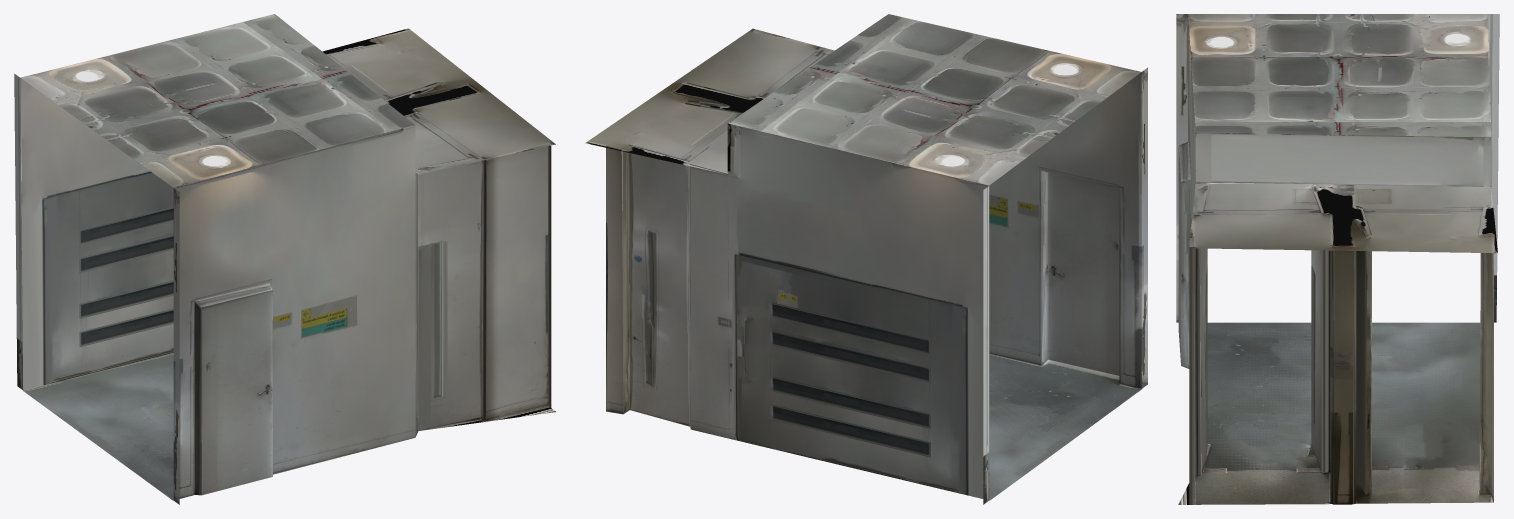
File: after_bridge_small_LP.fbx
3 views of the same model, side by side, from view 1: azimuth 30°, elevation 25°; view 2: azimuth 150°, elevation 25°; view 3: azimuth 270°, elevation 25° (orthographic). The views are drawn at different scales.
Parts seen in each view (by area): view 1: after bridge small LP; view 2: after bridge small LP; view 3: after bridge small LP.
Part boxes in pixels (x1=…): after bridge small LP: x1=14, y1=14, x2=555, y2=504; after bridge small LP: x1=585, y1=14, x2=1147, y2=504; after bridge small LP: x1=1176, y1=14, x2=1499, y2=504.
Bounding box in the file's own units: 442 × 336 × 319.
1 material, 1 textured.
